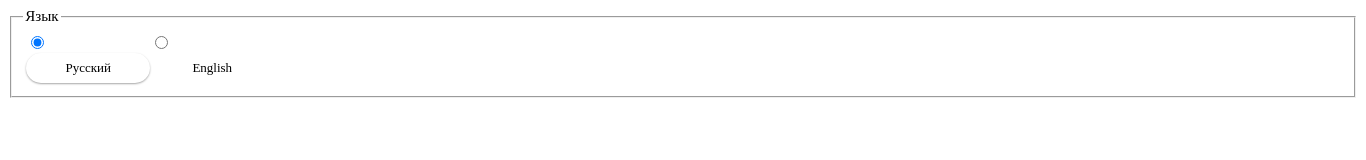
Test: LanguageControl › switches the active interface language and persists the choice
expect the element "Язык" is shown: met, box left=10, top=8, right=1356, bottom=98
expect the radio button labelled "Русский" is checked: met, box left=31, top=36, right=44, bottom=49
Click the radio button labelled "English": (162, 43) left=155, top=36, right=168, bottom=49
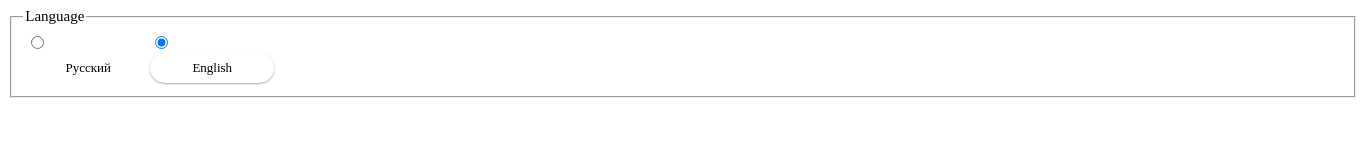
expect the radio button labelled "English" is checked: met, box left=155, top=36, right=168, bottom=49
